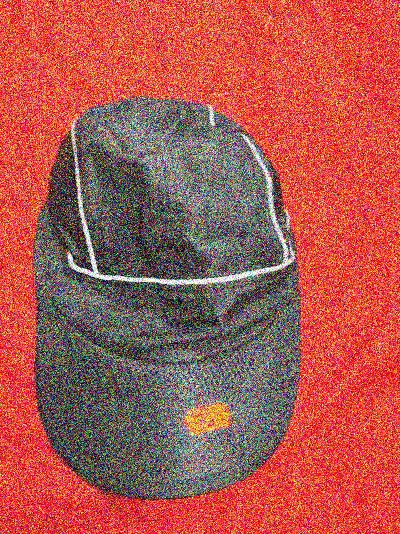Hat: (30, 65, 321, 492)
